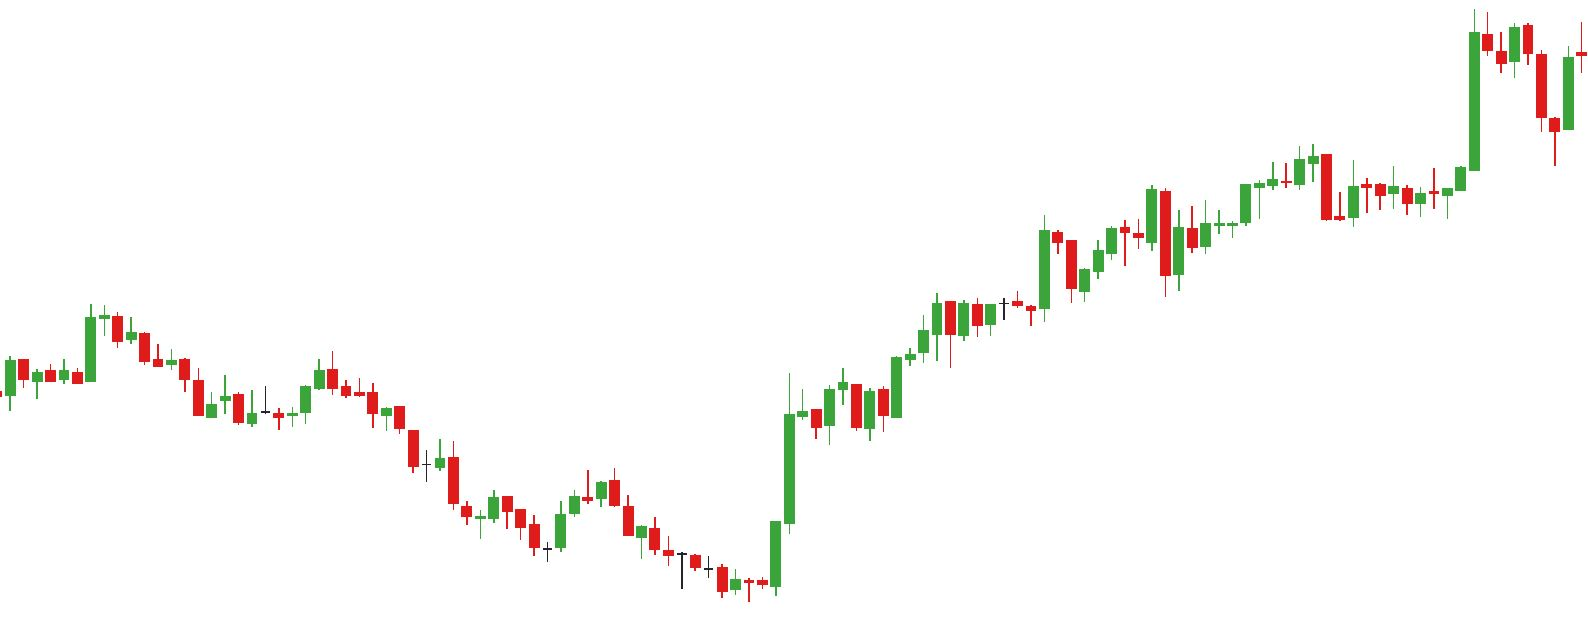buy: (1255, 169, 1362, 231)
